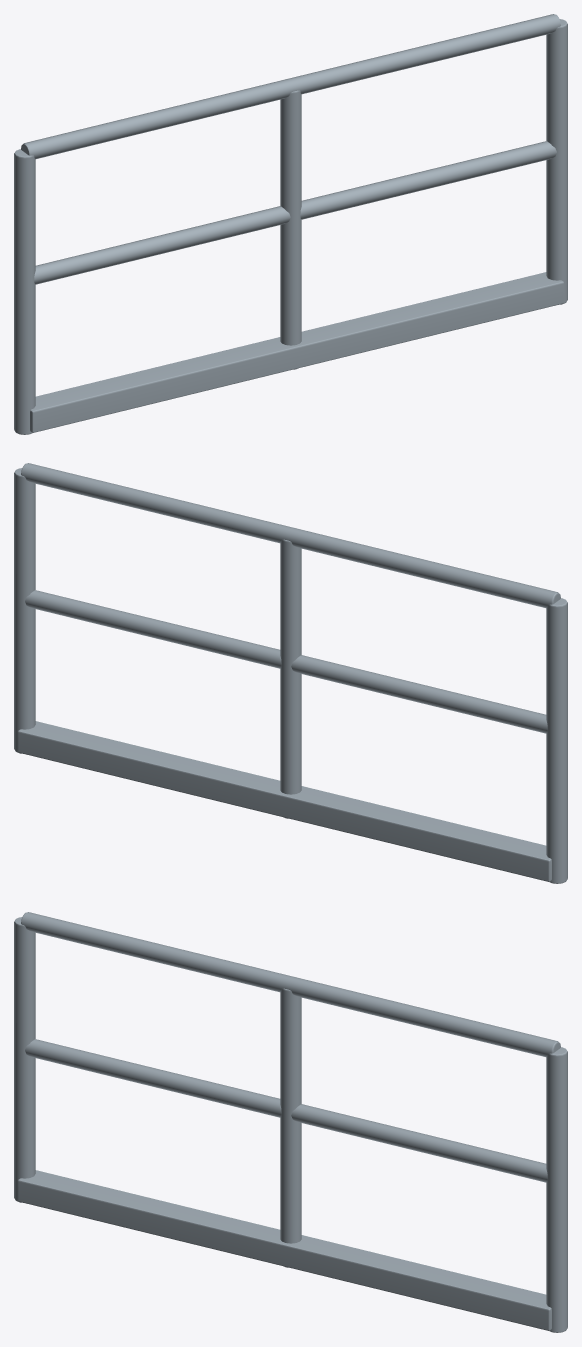
File: deck_railing.glb
The picture shows the model from 3 angles, top to bottom: view 1: azimuth 30°, elevation 25°; view 2: azimuth 150°, elevation 25°; view 3: azimuth 330°, elevation 25°; orthographic projection.
Parts seen in each view (by area): view 1: deck_railing; view 2: deck_railing; view 3: deck_railing.
Boxes of the visible parts, left/top/right/bottom form: deck_railing: left=14, top=14, right=567, bottom=434; deck_railing: left=14, top=463, right=567, bottom=883; deck_railing: left=14, top=912, right=567, bottom=1332.
Bounding box in the file's own units: 2.07 × 1.03 × 0.1.
